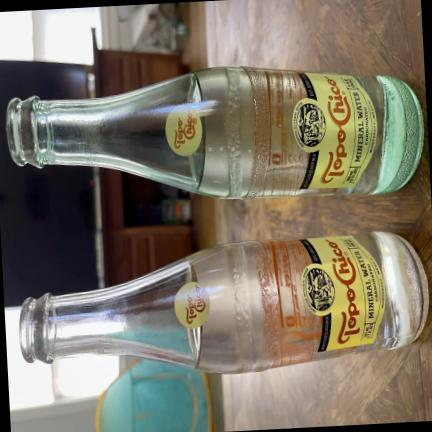container: (20, 231, 428, 373), (7, 66, 423, 198)
fluid: (188, 233, 428, 373), (195, 66, 422, 197)
fluid-surface: (187, 74, 206, 189), (187, 267, 202, 365)
